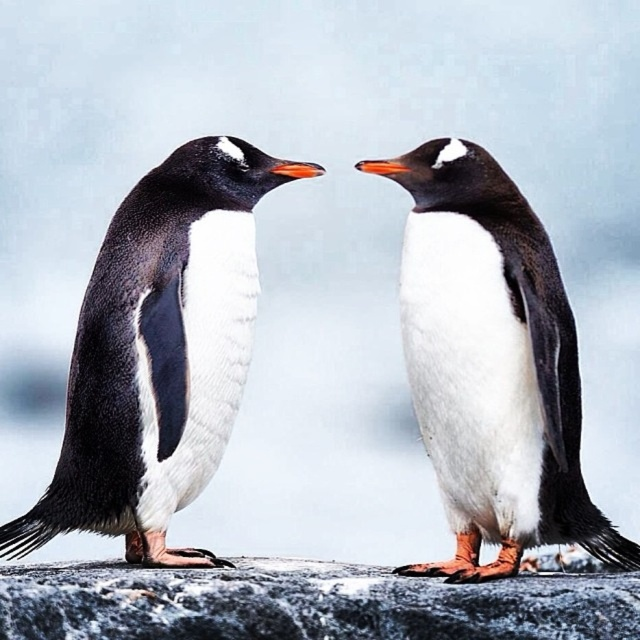Penguin: (0, 134, 326, 571), (350, 156, 604, 589)
